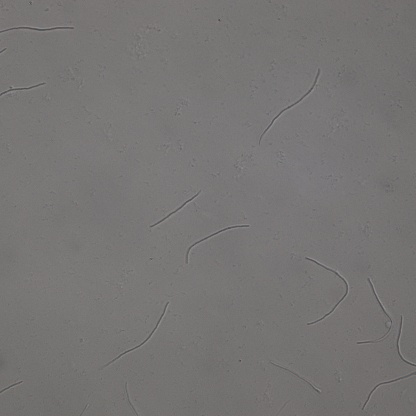Sensitive: (97, 301, 171, 372), (258, 68, 321, 145), (302, 256, 349, 323), (355, 278, 393, 347), (183, 224, 250, 263), (361, 372, 416, 410), (150, 190, 201, 228), (270, 363, 320, 393), (1, 21, 76, 35), (396, 316, 416, 366)
